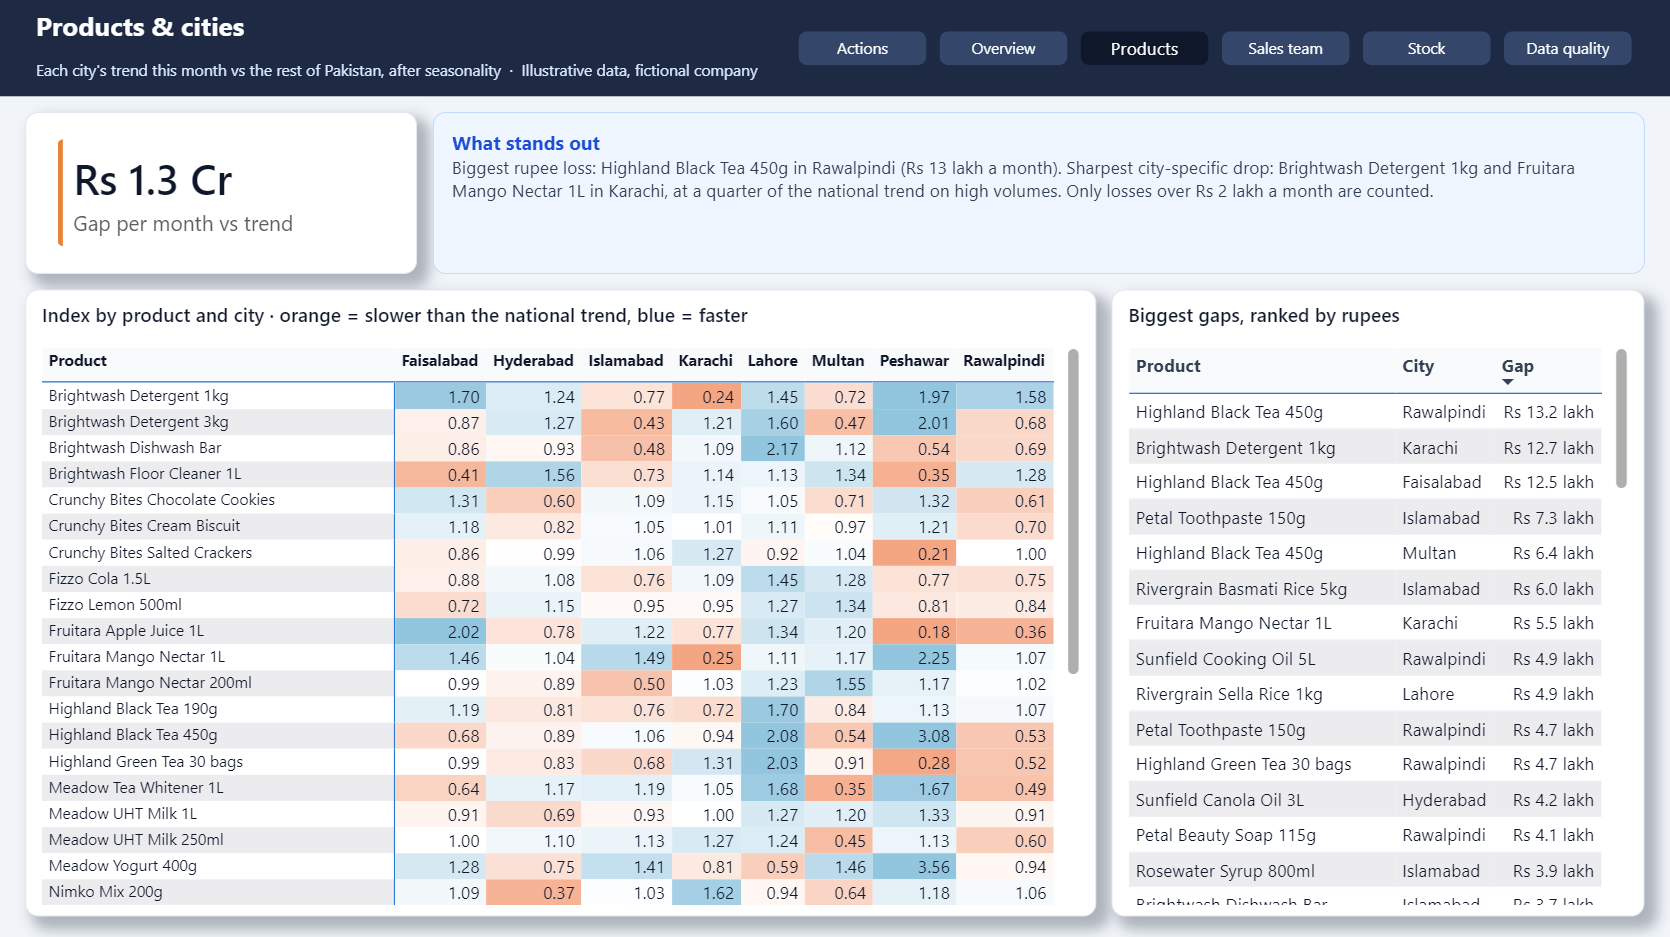

What the dashboard file says about the page in this screenshot:
{"tool":"powerbi","page":{"name":"Products","canvas":[1280,720],"ordinal":2},"visuals":[{"type":"textbox","box":[0,0,1280,76],"z":1000},{"type":"textbox","box":[16,0,580,46],"z":2000},{"type":"textbox","box":[16,38,580,36],"z":3000},{"type":"pageNavigator","box":[600,18,664,42],"z":4000},{"type":"cardVisual","fields":{"Data":["mart_product_city_trend.Lost Sales Text"]},"box":[20,88,300,124],"z":5000},{"type":"textbox","box":[332,88,928,124],"z":6000},{"type":"pivotTable","title":"Index by product and city · orange = slower than the national trend, blue = faster","fields":{"Columns":["mart_product_city_trend.city"],"Rows":["mart_product_city_trend.product_name"],"Values":["mart_product_city_trend.Seasonality Index"]},"box":[20,224,820,480],"z":7000},{"type":"tableEx","title":"Biggest gaps, ranked by rupees","fields":{"Values":["mart_product_city_trend.product_name","mart_product_city_trend.city","mart_product_city_trend.lost_lakh"]},"box":[852,224,408,480],"z":8000}]}

Visuals, with their boxes in screenshot pixels (x1, y1, x2, y2), scaled from the page's 1280x720 canvas onto the 1670x937 screenshot:
textbox: x1=0 y1=0 x2=1669 y2=99
textbox: x1=21 y1=0 x2=778 y2=60
textbox: x1=21 y1=49 x2=778 y2=96
pageNavigator: x1=783 y1=23 x2=1649 y2=78
cardVisual - mart_product_city_trend.Lost Sales Text: x1=26 y1=115 x2=418 y2=276
textbox: x1=433 y1=115 x2=1644 y2=276
"Index by product and city · orange = slower than the national trend, blue = faster" pivotTable: x1=26 y1=292 x2=1096 y2=916
"Biggest gaps, ranked by rupees" tableEx: x1=1112 y1=292 x2=1644 y2=916
